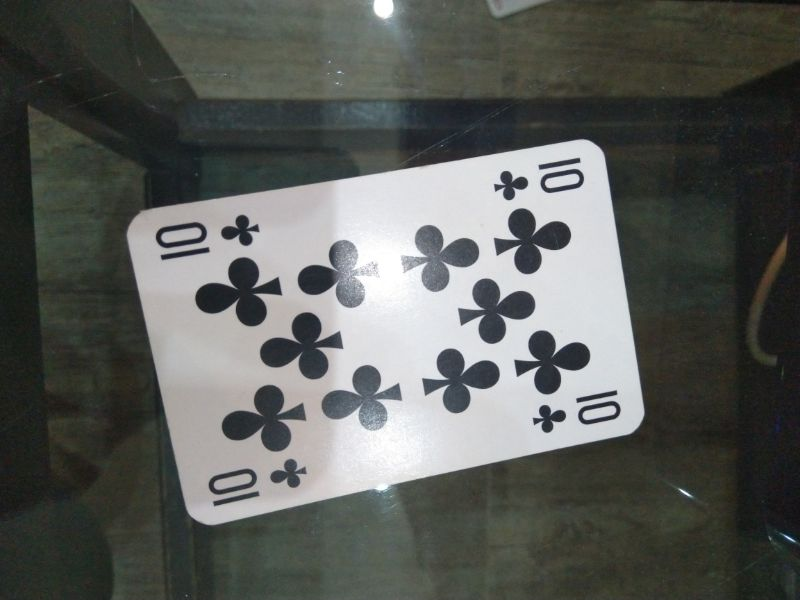Tc: (204, 456, 311, 511), (153, 210, 261, 264), (530, 386, 625, 442), (488, 153, 587, 206)
